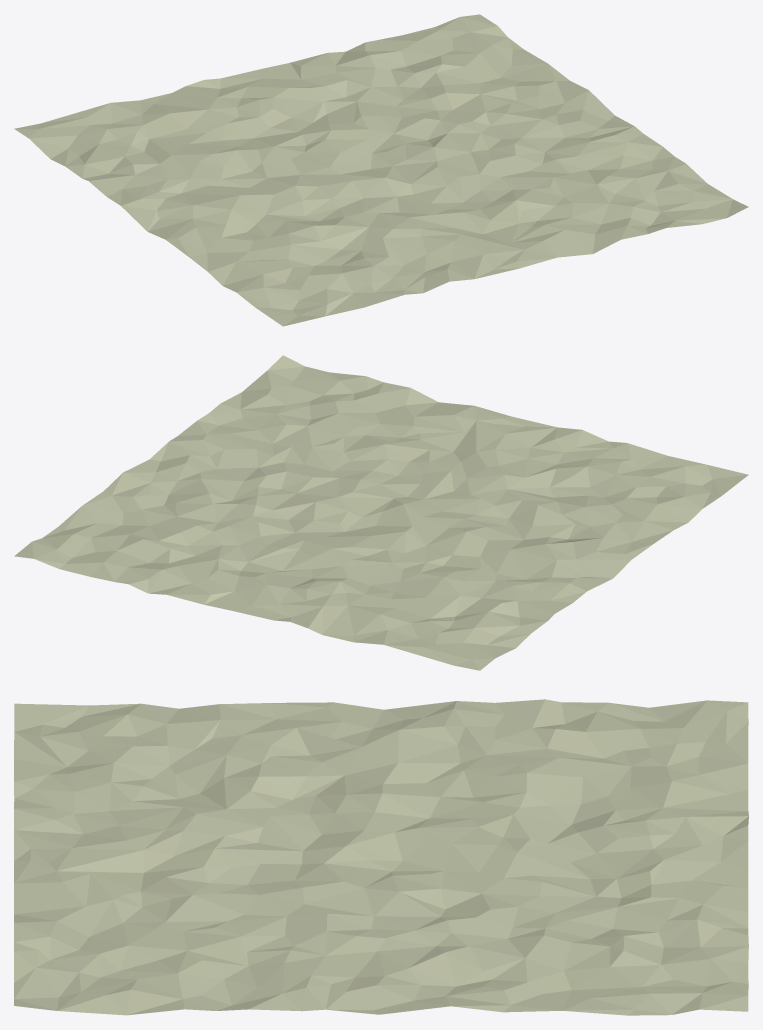
The model's file is soft_wall.fbx.
The picture shows the model from 3 angles, top to bottom: view 1: azimuth 30°, elevation 25°; view 2: azimuth 150°, elevation 25°; view 3: azimuth 270°, elevation 25°; orthographic projection. The views are drawn at different scales.
Visible parts, largest first — view 1: Plane; view 2: Plane; view 3: Plane.
Part boxes in pixels (x1,y1,x2,y2): Plane: (14, 14, 748, 326); Plane: (14, 355, 748, 670); Plane: (14, 699, 748, 1015).
Bounding box in the file's own units: 342 × 7.63 × 342.
